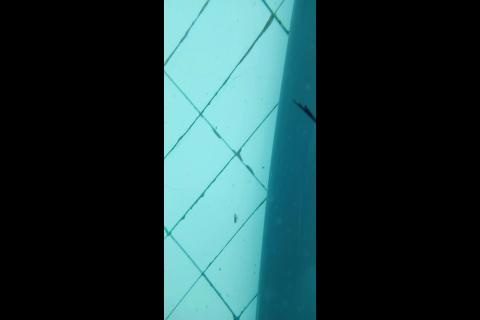keretakan: (292, 98, 316, 124)
